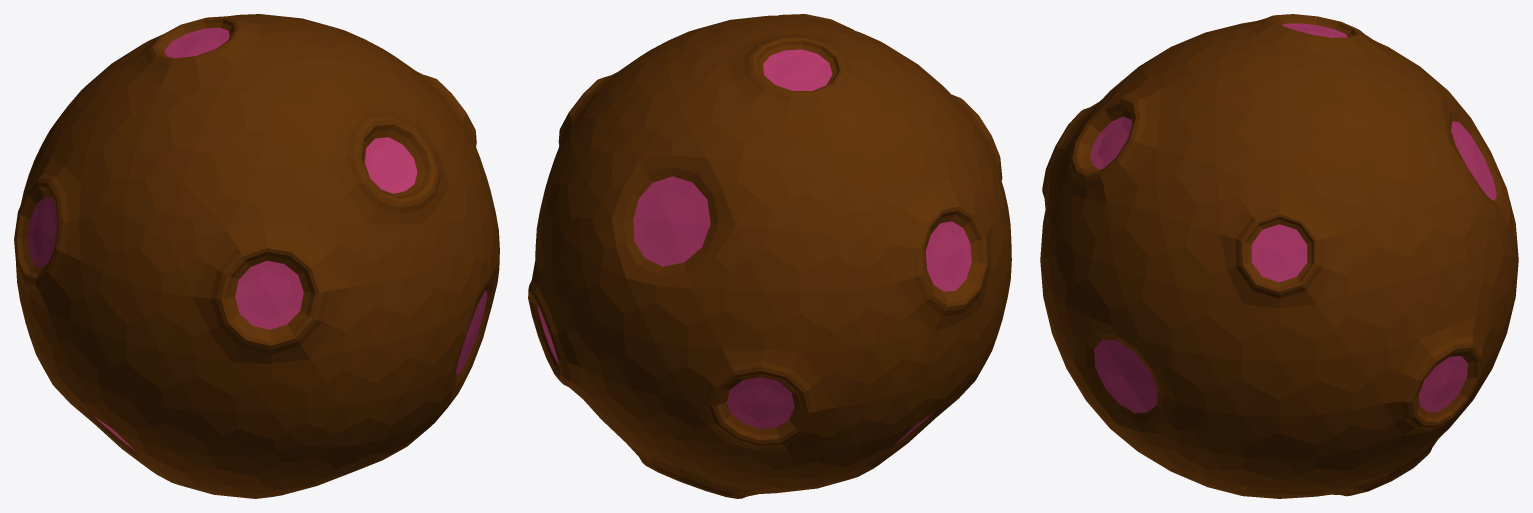
The model's file is GameAssetPlanetBrown.fbx.
3 renders of one model, left to right at view 1: azimuth 30°, elevation 25°; view 2: azimuth 150°, elevation 25°; view 3: azimuth 270°, elevation 25°, orthographic.
Visible parts, largest first — view 1: Planet; view 2: Planet; view 3: Planet.
Boxes of the visible parts, x1,y1,x2,y2 form: Planet: [14, 14, 499, 498]; Planet: [528, 14, 1011, 498]; Planet: [1040, 14, 1518, 498].
Bounding box in the file's own units: 309 × 310 × 304.
